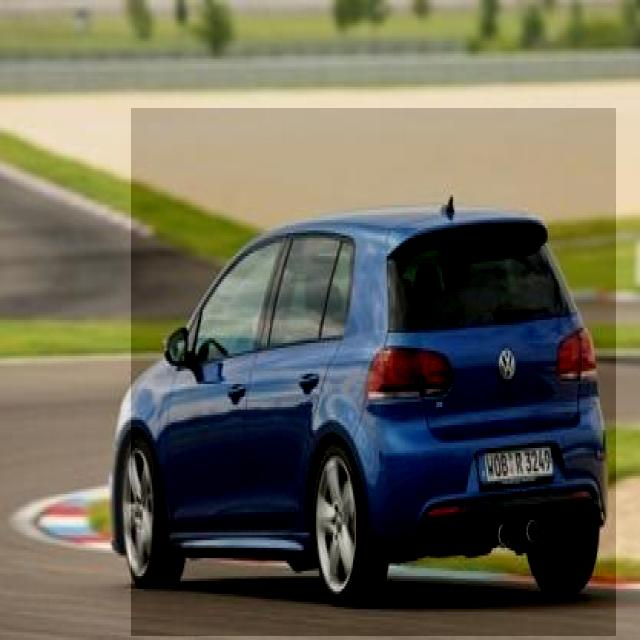Car: (131, 109, 616, 636)
